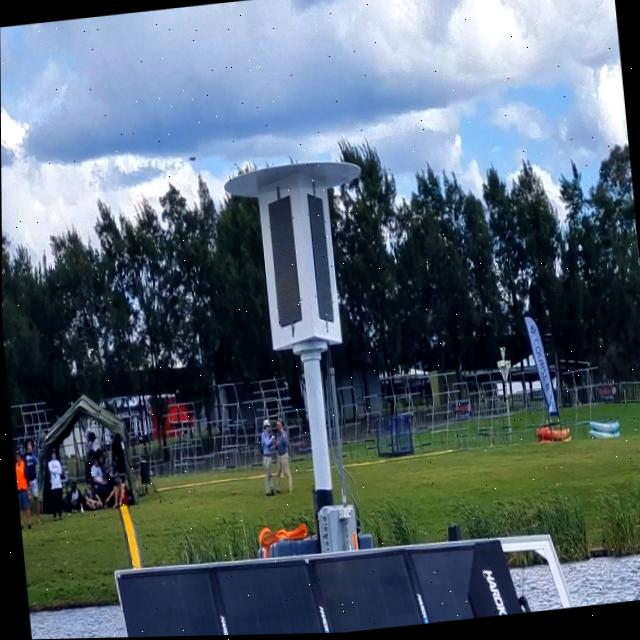led: (259, 188, 309, 337), (301, 183, 337, 335)
